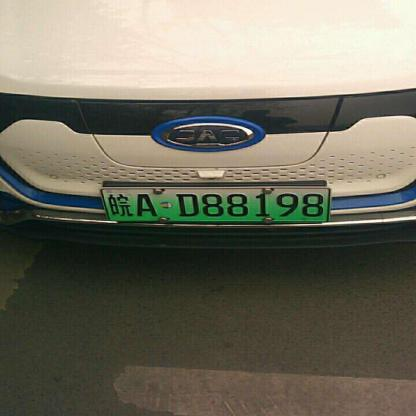lp: (100, 186, 330, 221)
